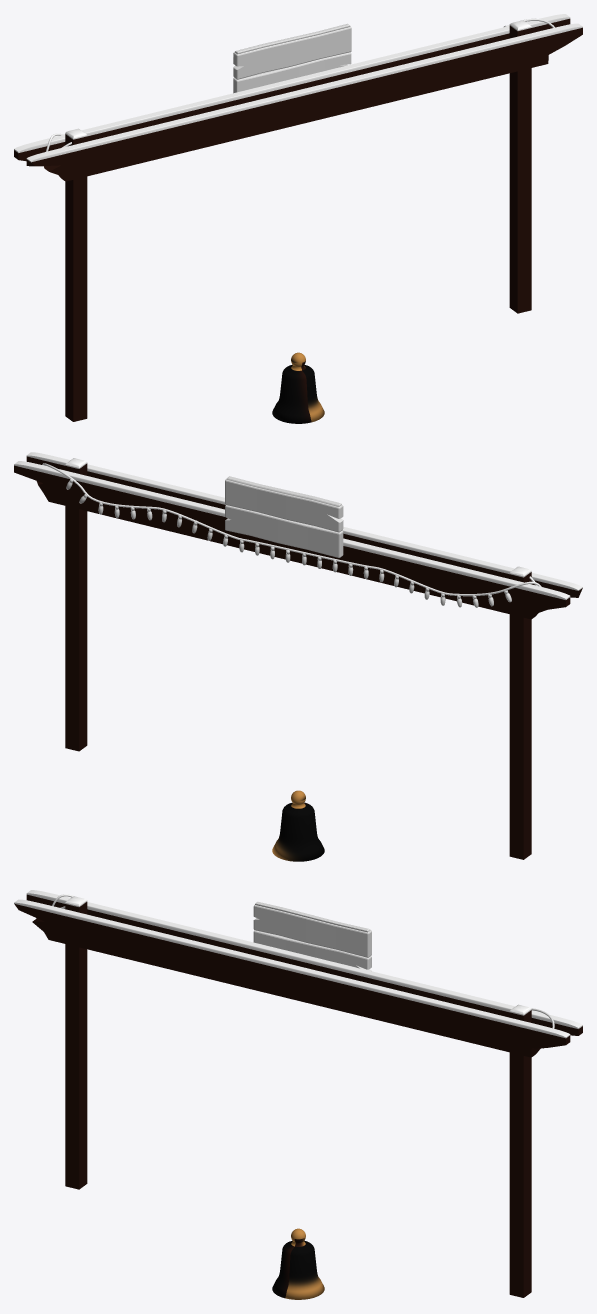
File: holiday2021.glb
The picture shows the model from 3 angles, top to bottom: view 1: azimuth 30°, elevation 25°; view 2: azimuth 150°, elevation 25°; view 3: azimuth 330°, elevation 25°; orthographic projection.
Parts seen in each view (by area): view 1: arbor, sign, bell; view 2: arbor, sign, bell, wire; view 3: arbor, sign, bell.
Part boxes in pixels (x1=…): arbor: x1=14, y1=14, x2=582, y2=421; sign: x1=233, y1=23, x2=351, y2=93; bell: x1=272, y1=352, x2=324, y2=423; arbor: x1=14, y1=452, x2=582, y2=859; sign: x1=225, y1=476, x2=343, y2=557; bell: x1=272, y1=790, x2=324, y2=861; wire: x1=42, y1=463, x2=541, y2=596; arbor: x1=14, y1=890, x2=582, y2=1297; sign: x1=253, y1=902, x2=371, y2=971; bell: x1=272, y1=1228, x2=324, y2=1299.
Size of the model in its own units: 23.12 by 14.69 by 1.91.
Materials: 1 (1 with a texture image).
